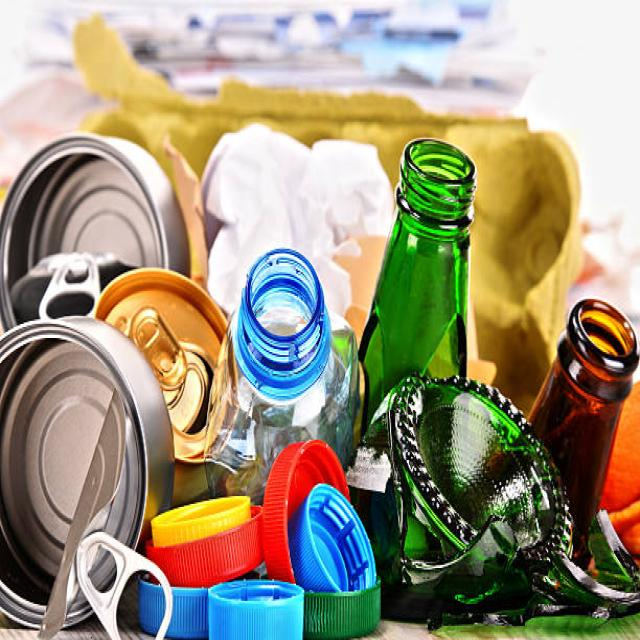glass: (387, 138, 619, 635)
metal: (5, 132, 132, 628)
plastic: (153, 448, 380, 634), (219, 250, 343, 440)
